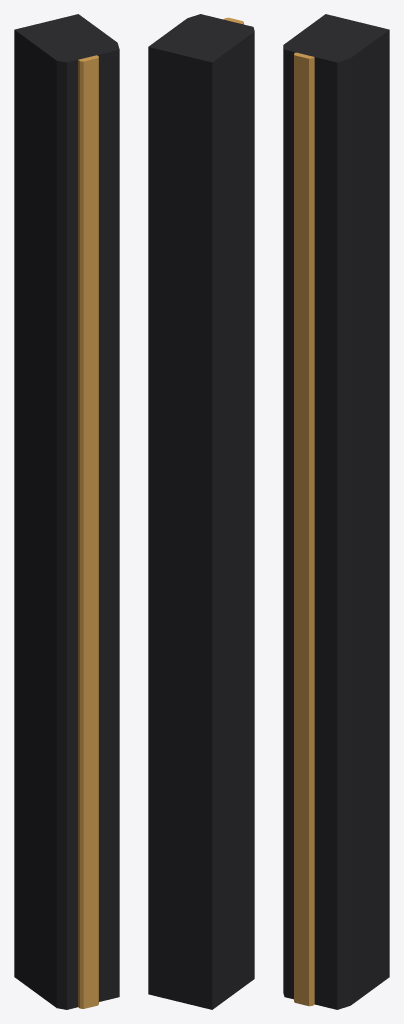
File: sign_frame_edge_v.glb
3 views of the same model, side by side, from view 1: azimuth 30°, elevation 25°; view 2: azimuth 150°, elevation 25°; view 3: azimuth 330°, elevation 25° (orthographic).
Visible parts, largest first — view 1: sign_frame_edge_v; view 2: sign_frame_edge_v; view 3: sign_frame_edge_v.
Boxes of the visible parts, x1,y1,x2,y2 form: sign_frame_edge_v: (14, 14, 119, 1009); sign_frame_edge_v: (148, 14, 254, 1009); sign_frame_edge_v: (283, 14, 389, 1009).
Size of the model in its own units: 0.034 by 0.48 by 0.046.
